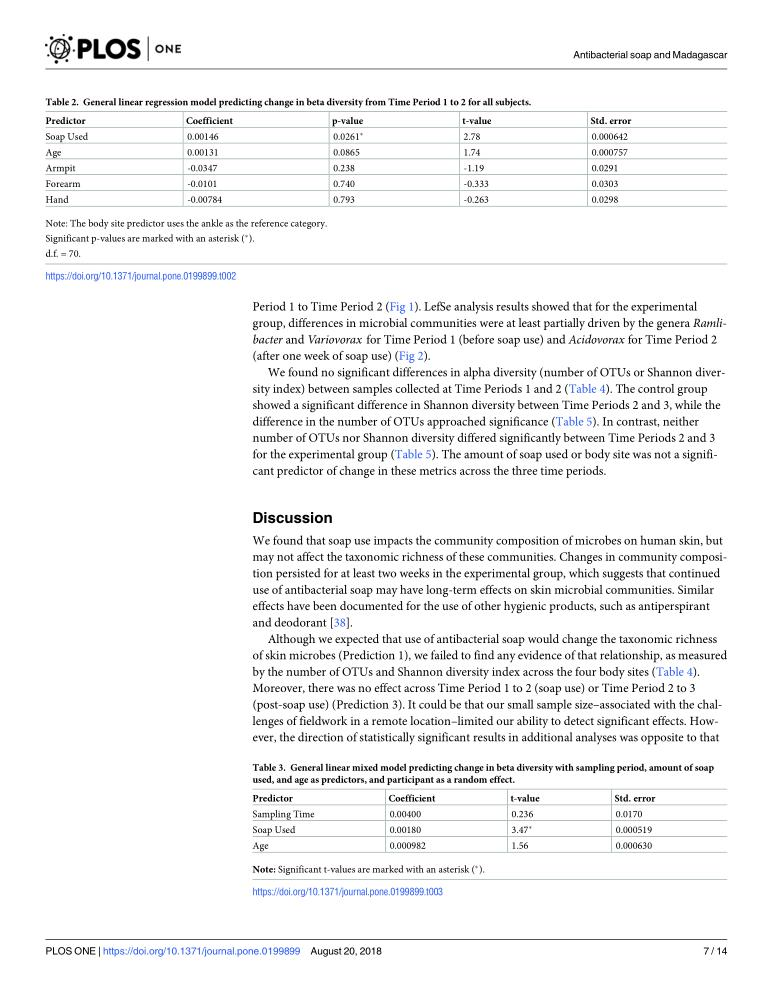table: (45, 116, 630, 205), (252, 793, 654, 851)
